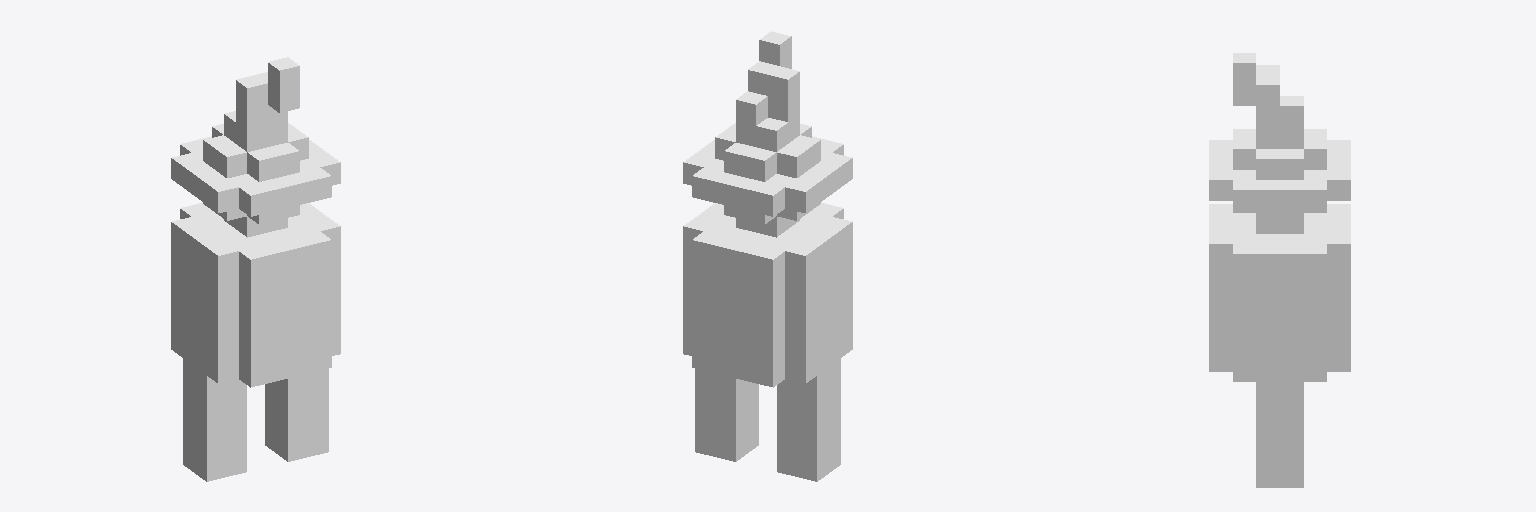
Rendered from player_simple.obj.
3 views of the same model, side by side, from view 1: azimuth 30°, elevation 25°; view 2: azimuth 150°, elevation 25°; view 3: azimuth 270°, elevation 25° (orthographic).
Visible parts, largest first — view 1: object 1; view 2: object 1; view 3: object 1.
Boxes of the visible parts, box(x1,y1,x2,y2) form: object 1: box(171, 57, 340, 481); object 1: box(683, 31, 852, 481); object 1: box(1209, 53, 1350, 487).
Size of the model in its own units: 0.6 by 1.9 by 0.6.